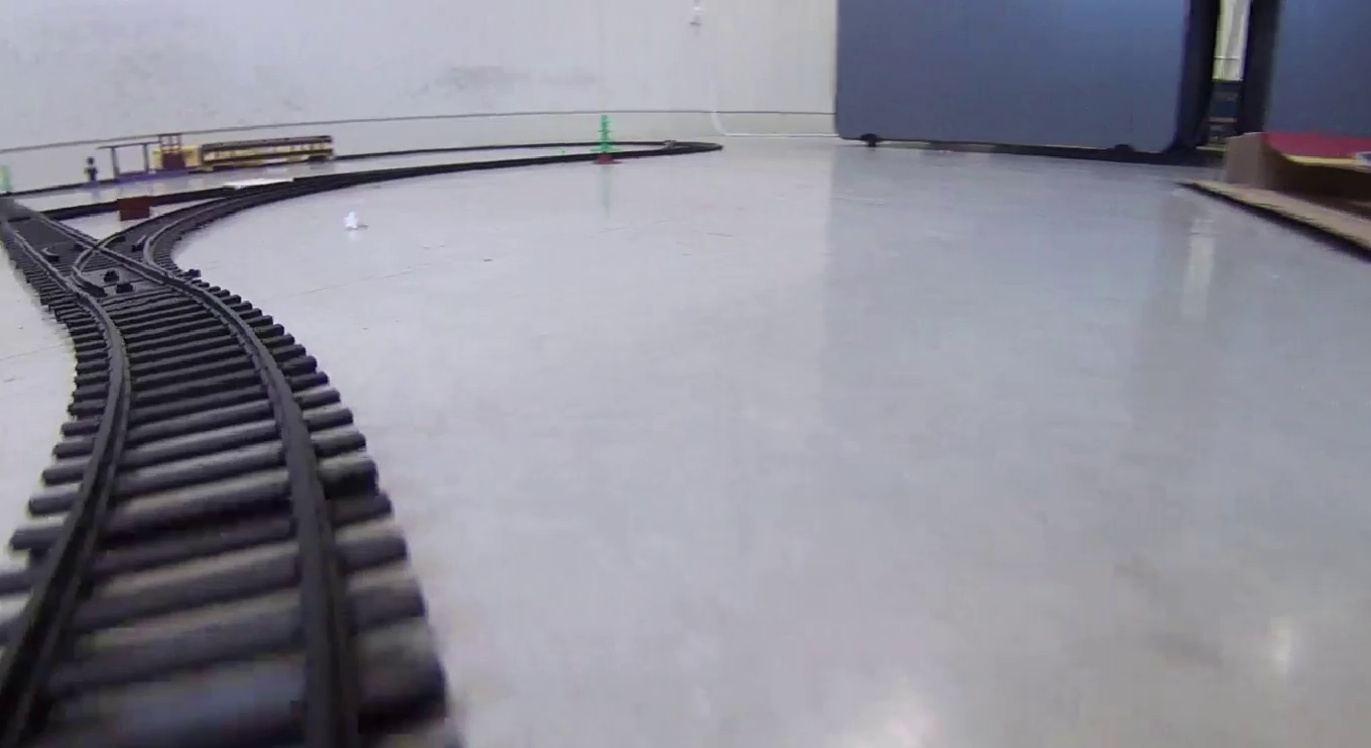box: (116, 196, 155, 223)
